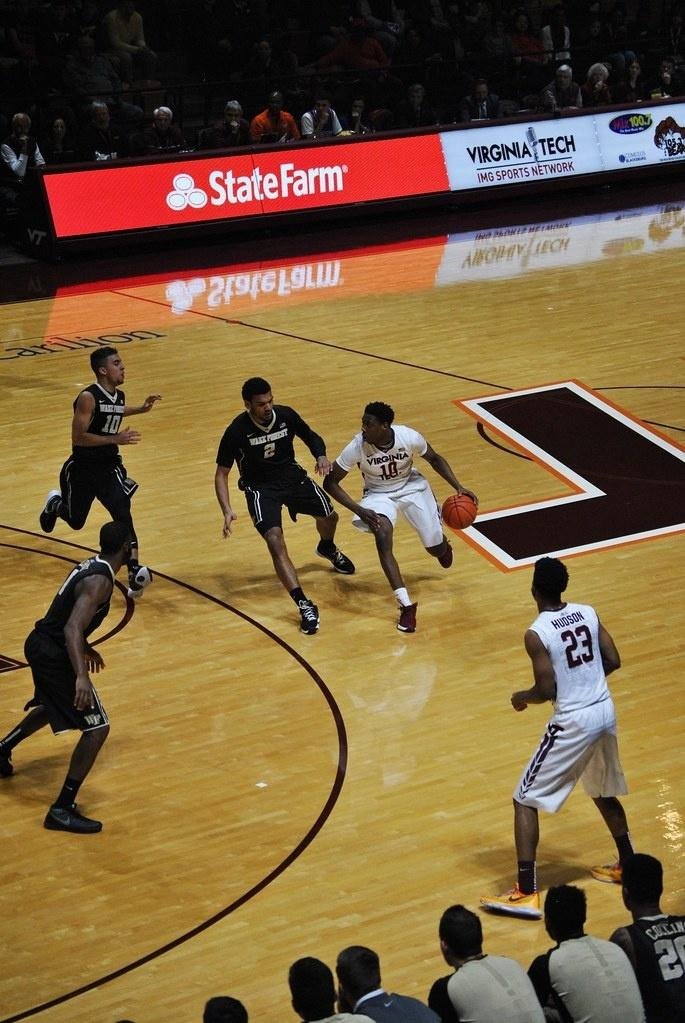basketball-player: (449, 540, 656, 929), (0, 516, 174, 847), (213, 375, 356, 634), (321, 401, 478, 634), (35, 324, 170, 593)
